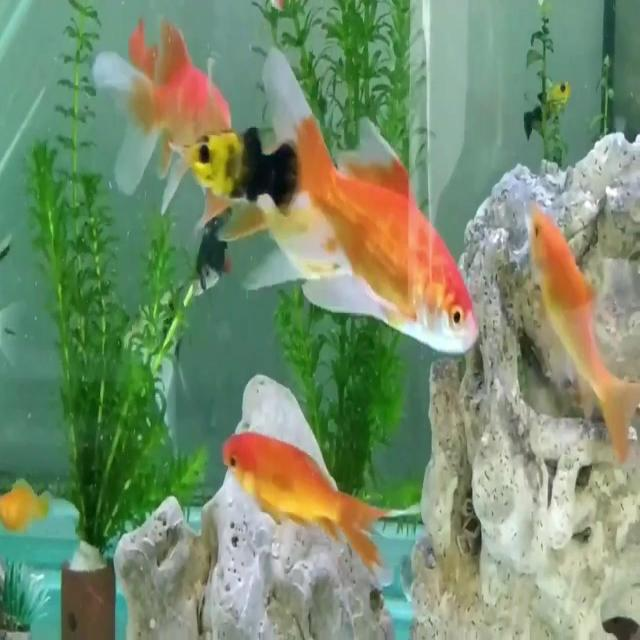GoldFish: (230, 41, 494, 368), (526, 203, 640, 468), (221, 429, 385, 575), (97, 31, 231, 196), (1, 485, 50, 531)
